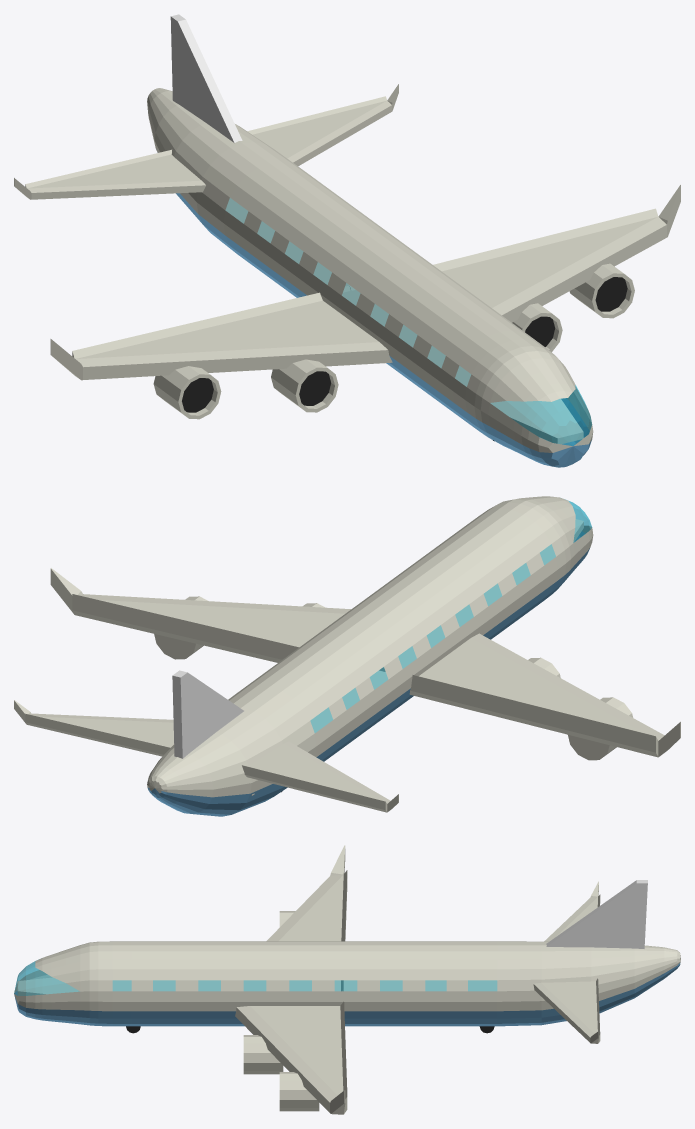
File: Airplane.fbx
3 renders of one model, top to bottom at view 1: azimuth 30°, elevation 25°; view 2: azimuth 150°, elevation 25°; view 3: azimuth 270°, elevation 25°, orthographic. The views are drawn at different scales.
Visible parts, largest first — view 1: Airplane; view 2: Airplane; view 3: Airplane.
Part boxes in pixels (left/top/right/bottom): Airplane: left=14, top=14, right=680, bottom=467; Airplane: left=14, top=496, right=680, bottom=816; Airplane: left=14, top=845, right=680, bottom=1114.
Size of the model in its own units: 4562 by 1303 by 5249.
